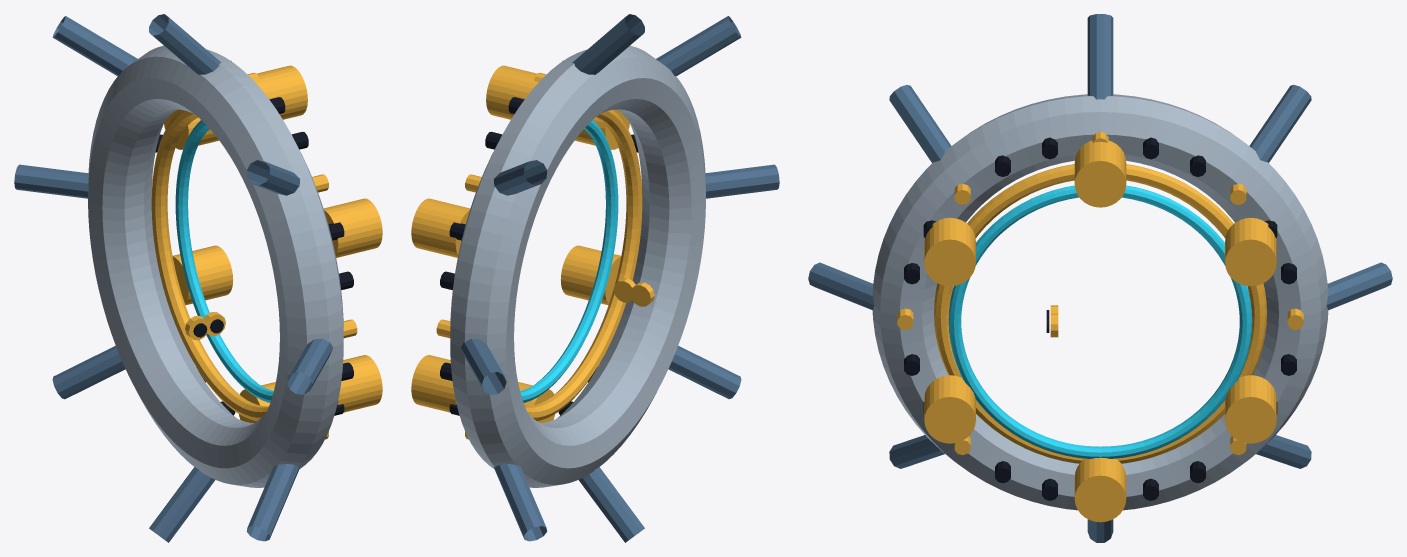
The model's file is 55_L85_ActiveSoftCaptureRing.fbx.
The picture shows the model from 3 angles, left to right: view 1: azimuth 30°, elevation 25°; view 2: azimuth 150°, elevation 25°; view 3: azimuth 270°, elevation 25°; orthographic projection.
Parts seen in each view (by area): view 1: L85_ActiveSoftCaptureRing_Part_0000, L85_ActiveSoftCaptureRing_Part_0001, L85_ActiveSoftCaptureRing_Part_0006, L85_ActiveSoftCaptureRing_Part_0003, L85_ActiveSoftCaptureRing_Part_0004, L85_ActiveSoftCaptureRing_Part_0002; view 2: L85_ActiveSoftCaptureRing_Part_0000, L85_ActiveSoftCaptureRing_Part_0006, L85_ActiveSoftCaptureRing_Part_0001, L85_ActiveSoftCaptureRing_Part_0003, L85_ActiveSoftCaptureRing_Part_0002, L85_ActiveSoftCaptureRing_Part_0004, L85_ActiveSoftCaptureRing_Part_0007; view 3: L85_ActiveSoftCaptureRing_Part_0000, L85_ActiveSoftCaptureRing_Part_0001, L85_ActiveSoftCaptureRing_Part_0006, L85_ActiveSoftCaptureRing_Part_0003, L85_ActiveSoftCaptureRing_Part_0004, L85_ActiveSoftCaptureRing_Part_0002.
Boxes of the visible parts, bbox=[...] form: L85_ActiveSoftCaptureRing_Part_0000: bbox=[88, 45, 343, 487]; L85_ActiveSoftCaptureRing_Part_0001: bbox=[151, 65, 382, 439]; L85_ActiveSoftCaptureRing_Part_0006: bbox=[14, 14, 332, 542]; L85_ActiveSoftCaptureRing_Part_0003: bbox=[175, 120, 273, 402]; L85_ActiveSoftCaptureRing_Part_0004: bbox=[155, 97, 353, 415]; L85_ActiveSoftCaptureRing_Part_0002: bbox=[164, 109, 218, 149]; L85_ActiveSoftCaptureRing_Part_0000: bbox=[450, 45, 705, 487]; L85_ActiveSoftCaptureRing_Part_0006: bbox=[461, 14, 779, 542]; L85_ActiveSoftCaptureRing_Part_0001: bbox=[411, 65, 642, 439]; L85_ActiveSoftCaptureRing_Part_0003: bbox=[520, 120, 618, 402]; L85_ActiveSoftCaptureRing_Part_0002: bbox=[411, 198, 470, 257]; L85_ActiveSoftCaptureRing_Part_0004: bbox=[440, 61, 638, 415]; L85_ActiveSoftCaptureRing_Part_0007: bbox=[630, 282, 654, 306]; L85_ActiveSoftCaptureRing_Part_0000: bbox=[872, 94, 1328, 510]; L85_ActiveSoftCaptureRing_Part_0001: bbox=[897, 131, 1303, 522]; L85_ActiveSoftCaptureRing_Part_0006: bbox=[808, 14, 1392, 542]; L85_ActiveSoftCaptureRing_Part_0003: bbox=[948, 185, 1252, 458]; L85_ActiveSoftCaptureRing_Part_0004: bbox=[904, 137, 1296, 500]; L85_ActiveSoftCaptureRing_Part_0002: bbox=[1225, 218, 1276, 286].
Size of the model in its own units: 91.08 by 317 by 318.
